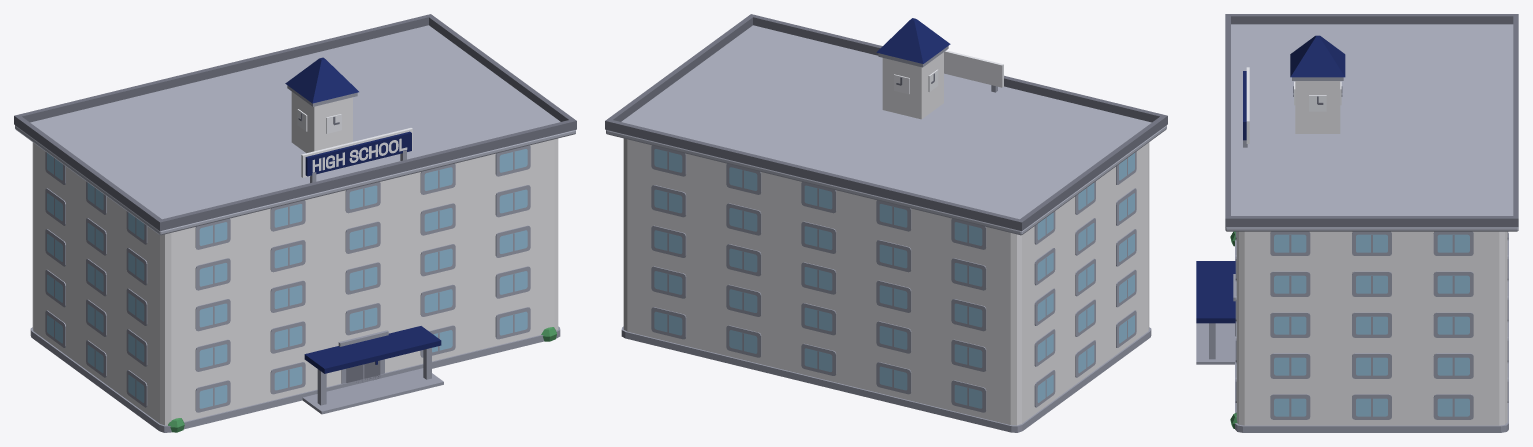
Rendered from high-school-3x2-5f.glb.
3 renders of one model, left to right at view 1: azimuth 30°, elevation 25°; view 2: azimuth 150°, elevation 25°; view 3: azimuth 270°, elevation 25°, orthographic.
Visible parts, largest first — view 1: high-school-3x2-5f; view 2: high-school-3x2-5f; view 3: high-school-3x2-5f.
Part boxes in pixels (x1,y1,x2,y2): high-school-3x2-5f: (14, 14, 576, 432); high-school-3x2-5f: (605, 14, 1167, 432); high-school-3x2-5f: (1196, 14, 1518, 432).
Size of the model in its own units: 3 by 2.04 by 2.
1 material, 1 textured.
